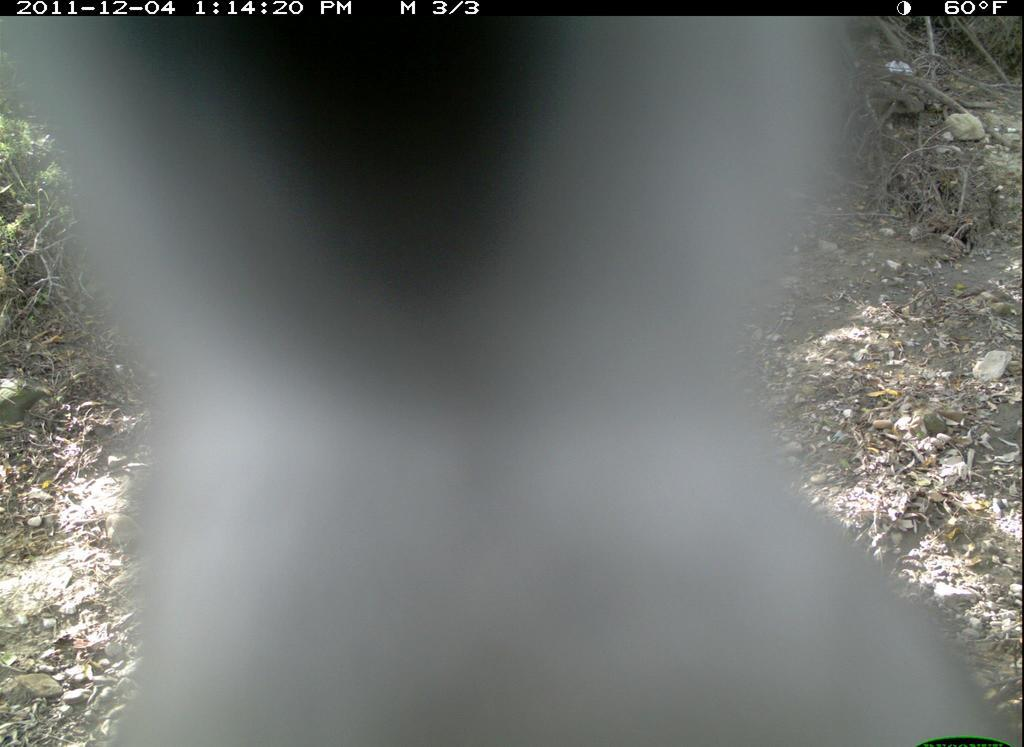bird: (3, 13, 1024, 747)
